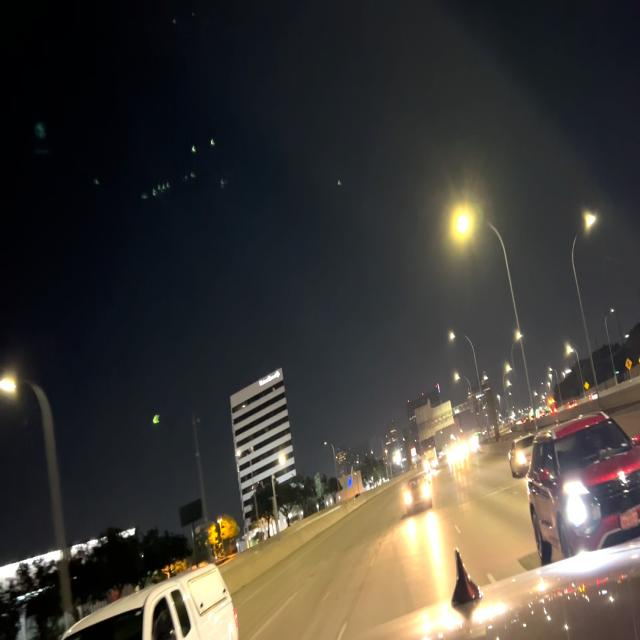back-of-sign: (413, 398, 454, 443)
